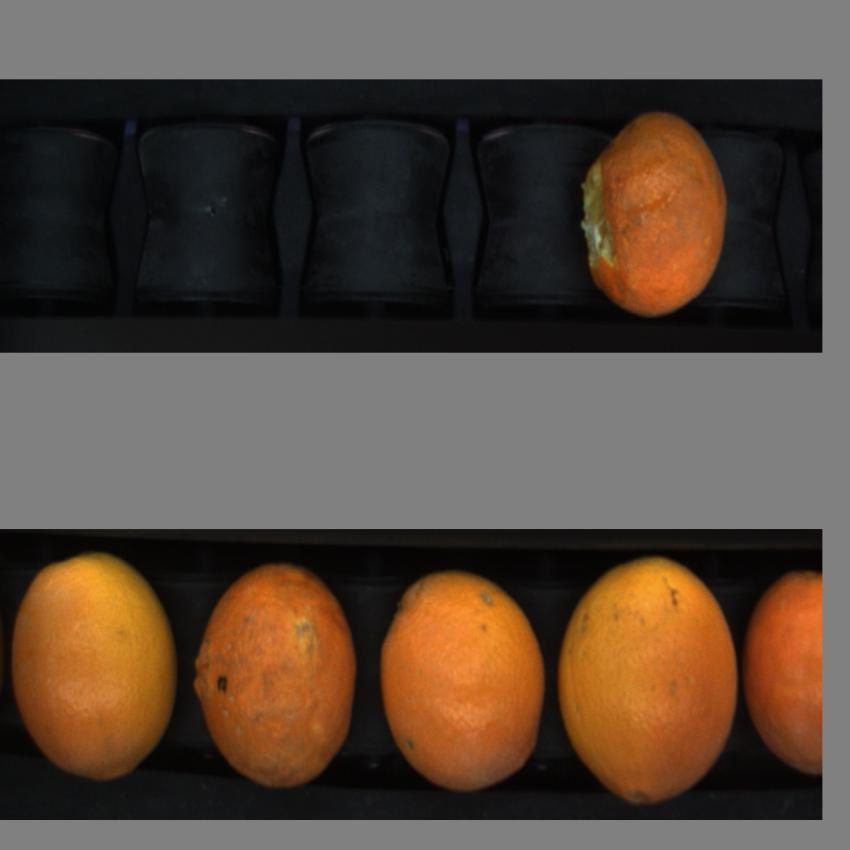Buen estado: (560, 562, 743, 807), (10, 543, 182, 786), (376, 562, 553, 792), (744, 563, 820, 784)
Mal estado: (190, 559, 355, 790), (584, 112, 732, 320)
